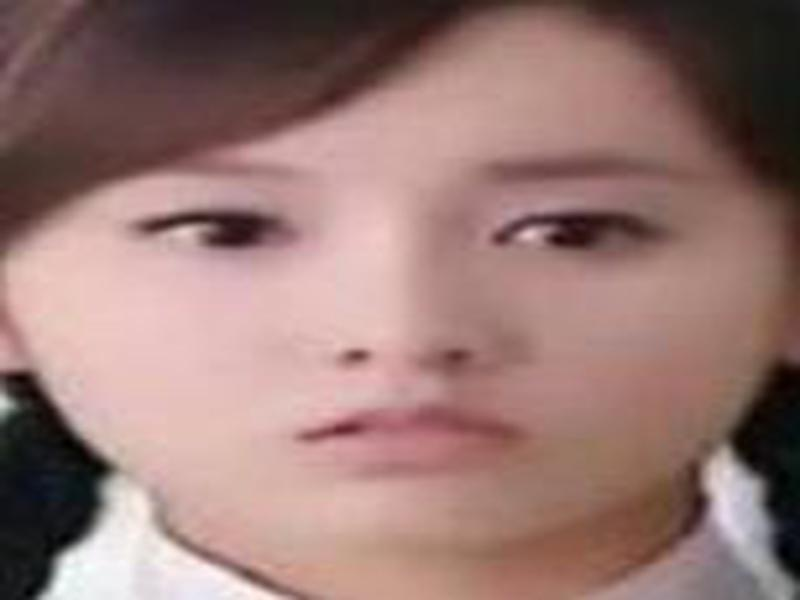without_mask: (33, 29, 759, 567)
